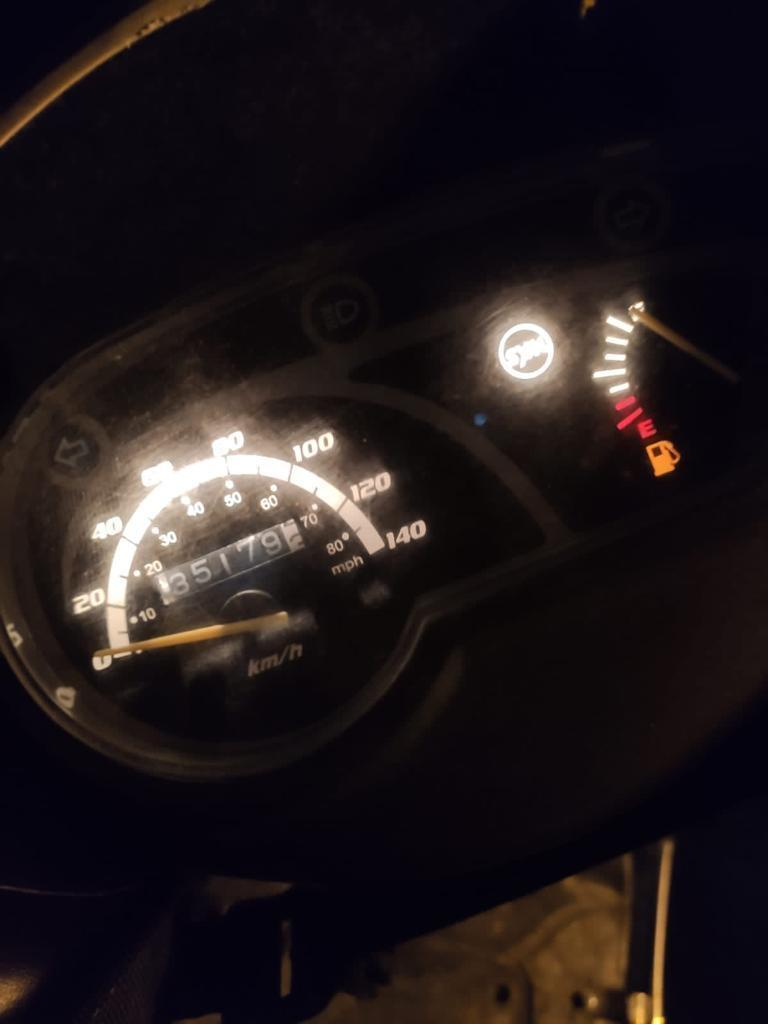0: (152, 559, 162, 572), (167, 530, 176, 543)
1: (217, 550, 233, 577)
2: (147, 562, 153, 576)
3: (167, 569, 190, 596), (288, 531, 306, 551), (157, 533, 168, 547)
5: (189, 556, 212, 584)
7: (234, 536, 255, 563), (299, 515, 309, 528)
9: (259, 529, 282, 557)
odometer: (147, 515, 311, 607)
